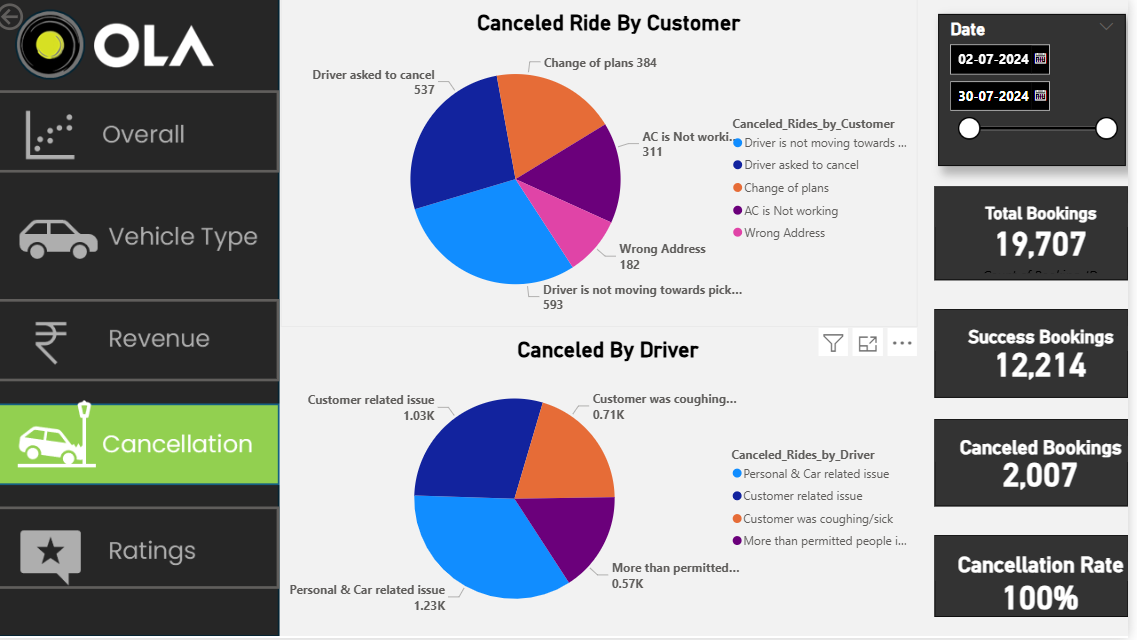

The page's visual inventory and layout, read from the dashboard file:
{"tool":"powerbi","page":{"name":"Cancelation","canvas":[1280,720],"ordinal":3},"visuals":[{"type":"actionButton","box":[0,572.4,323.7,92.8],"z":0},{"type":"actionButton","box":[0,337.5,323.7,92.8],"z":1000},{"type":"actionButton","box":[0,218.4,324.5,92.9],"z":2000},{"type":"actionButton","box":[0,572.4,323.7,92.8],"z":3000},{"type":"actionButton","box":[0,102.6,323.7,92.8],"z":4000},{"type":"actionButton","box":[0,337.5,323.7,92.8],"z":5000},{"type":"actionButton","box":[0,572.4,323.7,92.8],"z":6000},{"type":"pieChart","title":"Canceled By Driver","fields":{"Category":["July.Canceled_Rides_by_Driver"],"Y":["CountNonNull(July.Canceled_Rides_by_Driver)"]},"box":[323.8,369.1,720.4,351.3],"z":7000},{"type":"pieChart","title":"Canceled Ride By Customer","fields":{"Category":["July.Canceled_Rides_by_Customer"],"Y":["CountNonNull(July.Canceled_Rides_by_Customer)"]},"box":[325.2,0,719,369.1],"z":8000},{"type":"slicer","fields":{"Values":["July.Date"]},"box":[1066.2,16.5,211.3,171.5],"z":9000},{"type":"card","title":"Total Bookings","fields":{"Values":["CountNonNull(July.Booking_ID)"]},"box":[1062.1,211.3,218.2,105.7],"z":10000},{"type":"card","title":"Success Bookings","fields":{"Values":["CountNonNull(July.Booking_Status)"]},"box":[1062.1,349.9,218.2,100.2],"z":11000},{"type":"card","title":"Canceled Bookings","fields":{"Values":["July.Canceled Bookings"]},"box":[1062.1,473.4,218.2,98.8],"z":12000},{"type":"card","title":"Cancellation Rate","fields":{"Values":["July.CanceledPercentage"]},"box":[1062.1,603.8,218.2,91.9],"z":13000},{"type":"actionButton","box":[0,0,100,40],"z":14000}]}

Visuals, with their boxes on the page's 1280x720 design canvas (x1, y1, x2, y2). These are canvas units, not pixel positions in the 1137x640 screenshot, which may show the page scaled, cropped or inside an application window:
actionButton: pyautogui.locateOnScreen(0, 572, 324, 665)
actionButton: pyautogui.locateOnScreen(0, 338, 324, 430)
actionButton: pyautogui.locateOnScreen(0, 218, 324, 311)
actionButton: pyautogui.locateOnScreen(0, 572, 324, 665)
actionButton: pyautogui.locateOnScreen(0, 103, 324, 195)
actionButton: pyautogui.locateOnScreen(0, 338, 324, 430)
actionButton: pyautogui.locateOnScreen(0, 572, 324, 665)
"Canceled By Driver" pieChart: pyautogui.locateOnScreen(324, 369, 1044, 720)
"Canceled Ride By Customer" pieChart: pyautogui.locateOnScreen(325, 0, 1044, 369)
slicer - July.Date: pyautogui.locateOnScreen(1066, 16, 1278, 188)
"Total Bookings" card: pyautogui.locateOnScreen(1062, 211, 1280, 317)
"Success Bookings" card: pyautogui.locateOnScreen(1062, 350, 1280, 450)
"Canceled Bookings" card: pyautogui.locateOnScreen(1062, 473, 1280, 572)
"Cancellation Rate" card: pyautogui.locateOnScreen(1062, 604, 1280, 696)
actionButton: pyautogui.locateOnScreen(0, 0, 100, 40)
